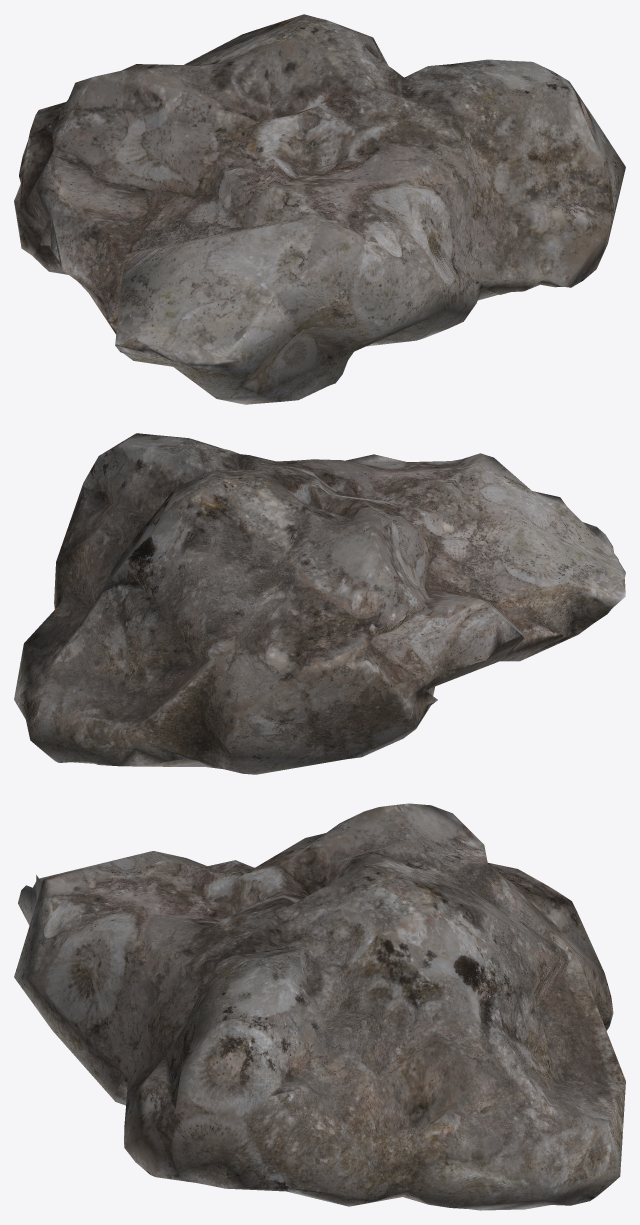
Rendered from rock 4.gltf.
3 renders of one model, top to bottom at view 1: azimuth 30°, elevation 25°; view 2: azimuth 150°, elevation 25°; view 3: azimuth 270°, elevation 25°, orthographic. The views are drawn at different scales.
Visible parts, largest first — view 1: S_Coral_Stone_wfbmej3r_lod3_Var1_LOD0; view 2: S_Coral_Stone_wfbmej3r_lod3_Var1_LOD0; view 3: S_Coral_Stone_wfbmej3r_lod3_Var1_LOD0.
Boxes of the visible parts, box(x1,y1,x2,y2) form: S_Coral_Stone_wfbmej3r_lod3_Var1_LOD0: box(14, 14, 625, 404); S_Coral_Stone_wfbmej3r_lod3_Var1_LOD0: box(14, 433, 625, 774); S_Coral_Stone_wfbmej3r_lod3_Var1_LOD0: box(14, 803, 625, 1210).
Bounding box in the file's own units: 10.69 × 4.86 × 9.85.
1 material, 1 textured.
